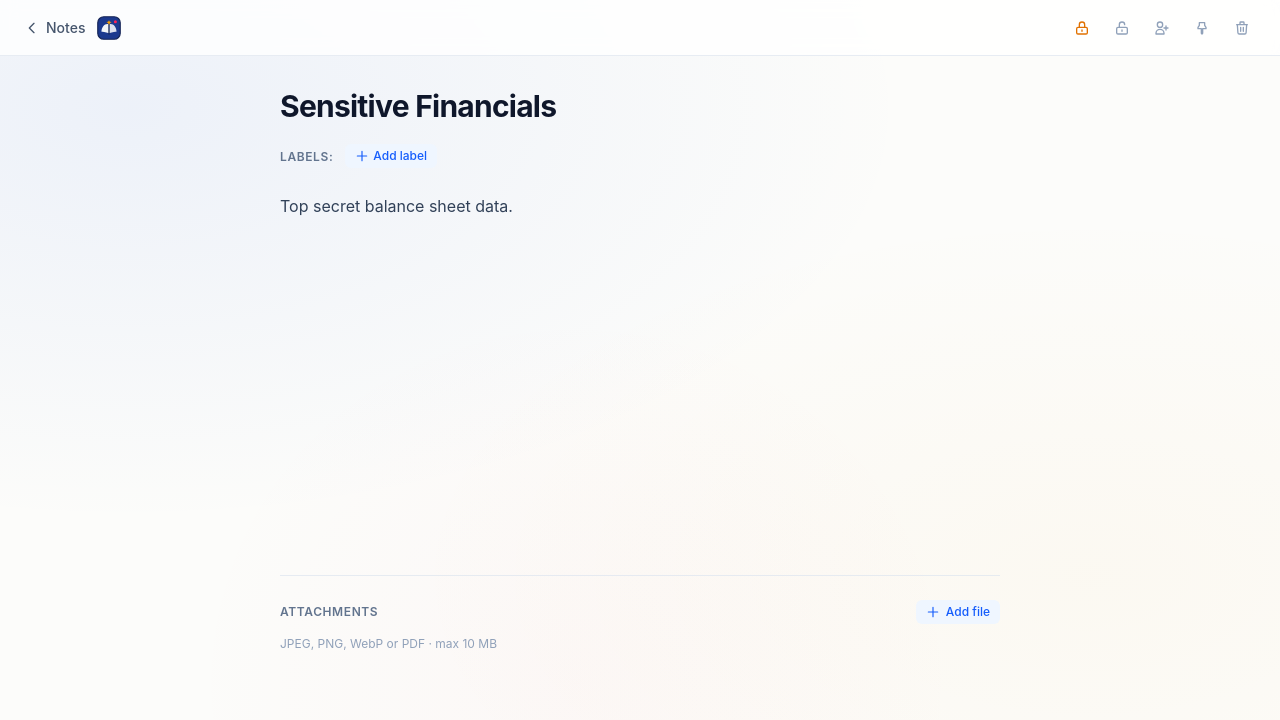
Test case: SHARE-01 & SHARE-02 Note Protection Tests › Protection lifecycle and manual lock (SHARE-01 & SHARE-02) › manual lock button immediately clears plaintext content and locks the view
expect the text box with test id "note-content-input" is shown: met, box [280,193,1000,553]
Click the button with test id "lock-now-button".
click(1082, 28)  # box [1068,14,1096,42]
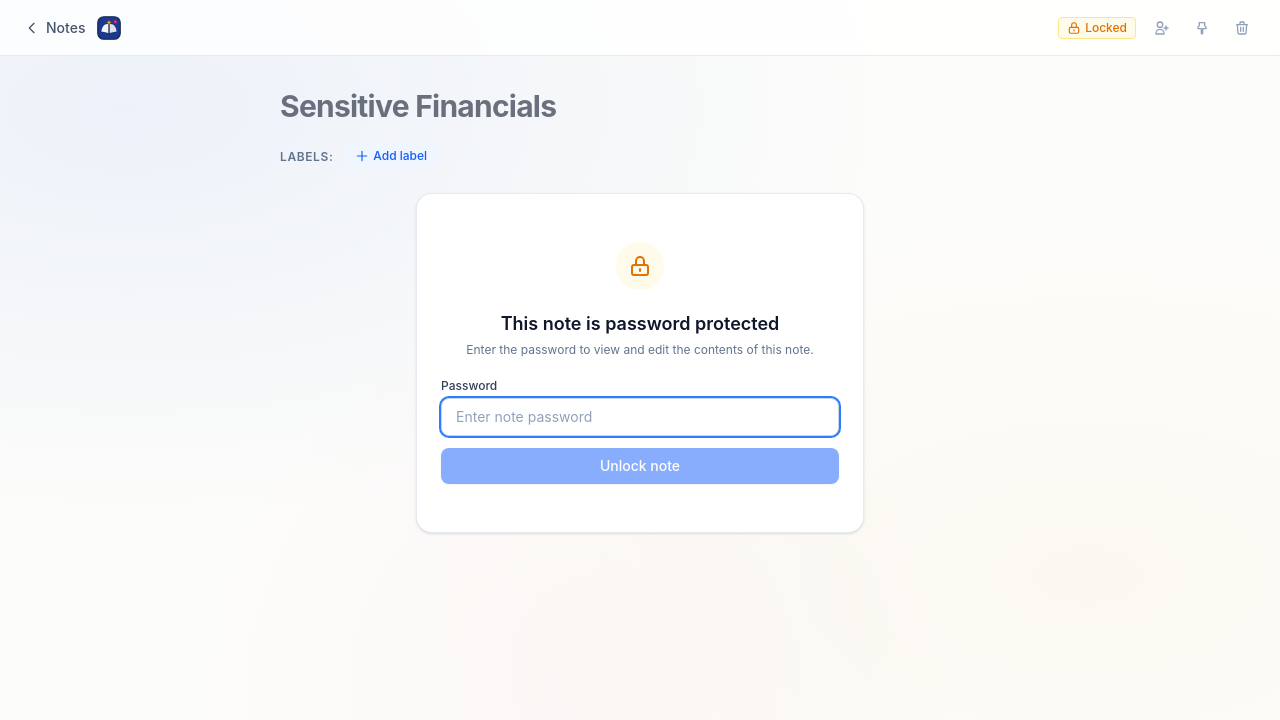
expect the text box with test id "note-content-input" is gone: met
expect the element with test id "locked-note-view" is shown: met, box [416,193,864,533]
expect the field with test id "note-title-input" is disabled: met, box [280,88,1000,124]
